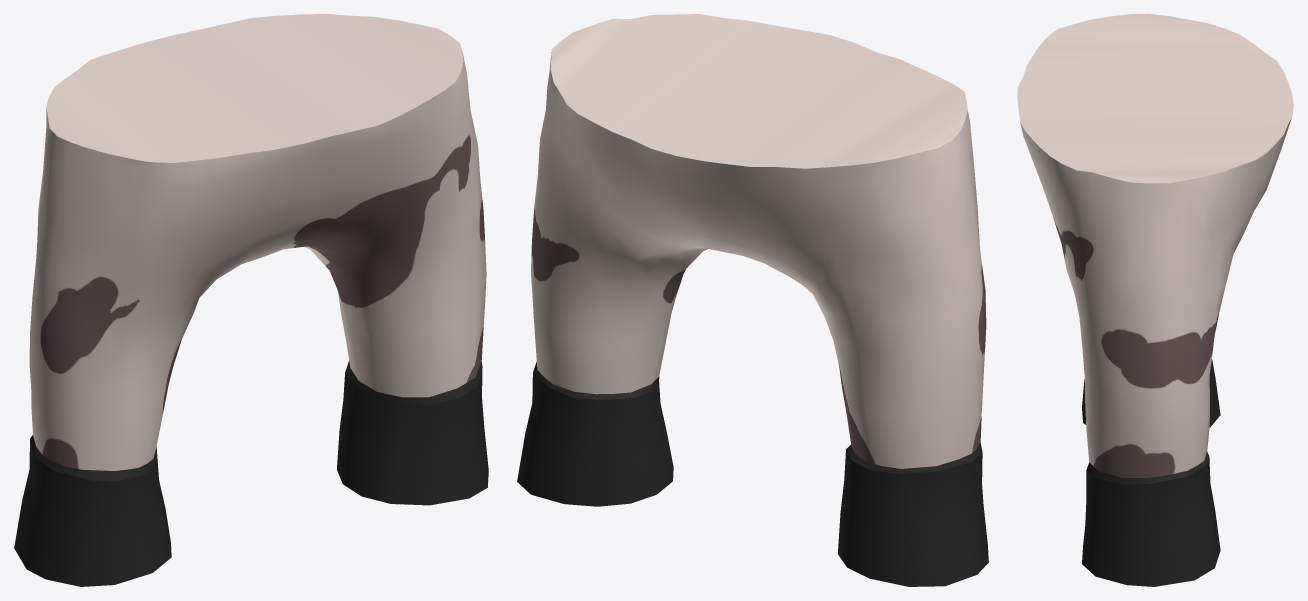
3 views of the same model, side by side, from view 1: azimuth 30°, elevation 25°; view 2: azimuth 150°, elevation 25°; view 3: azimuth 270°, elevation 25° (orthographic). The views are drawn at different scales.
Visible parts, largest first — view 1: 18马裤; view 2: 18马裤; view 3: 18马裤.
Part boxes in pixels (left/top/right/bottom): 18马裤: left=14, top=14, right=488, bottom=586; 18马裤: left=517, top=14, right=988, bottom=586; 18马裤: left=1017, top=14, right=1293, bottom=586.
Size of the model in its own units: 0.6379 by 0.5896 by 0.3757.
